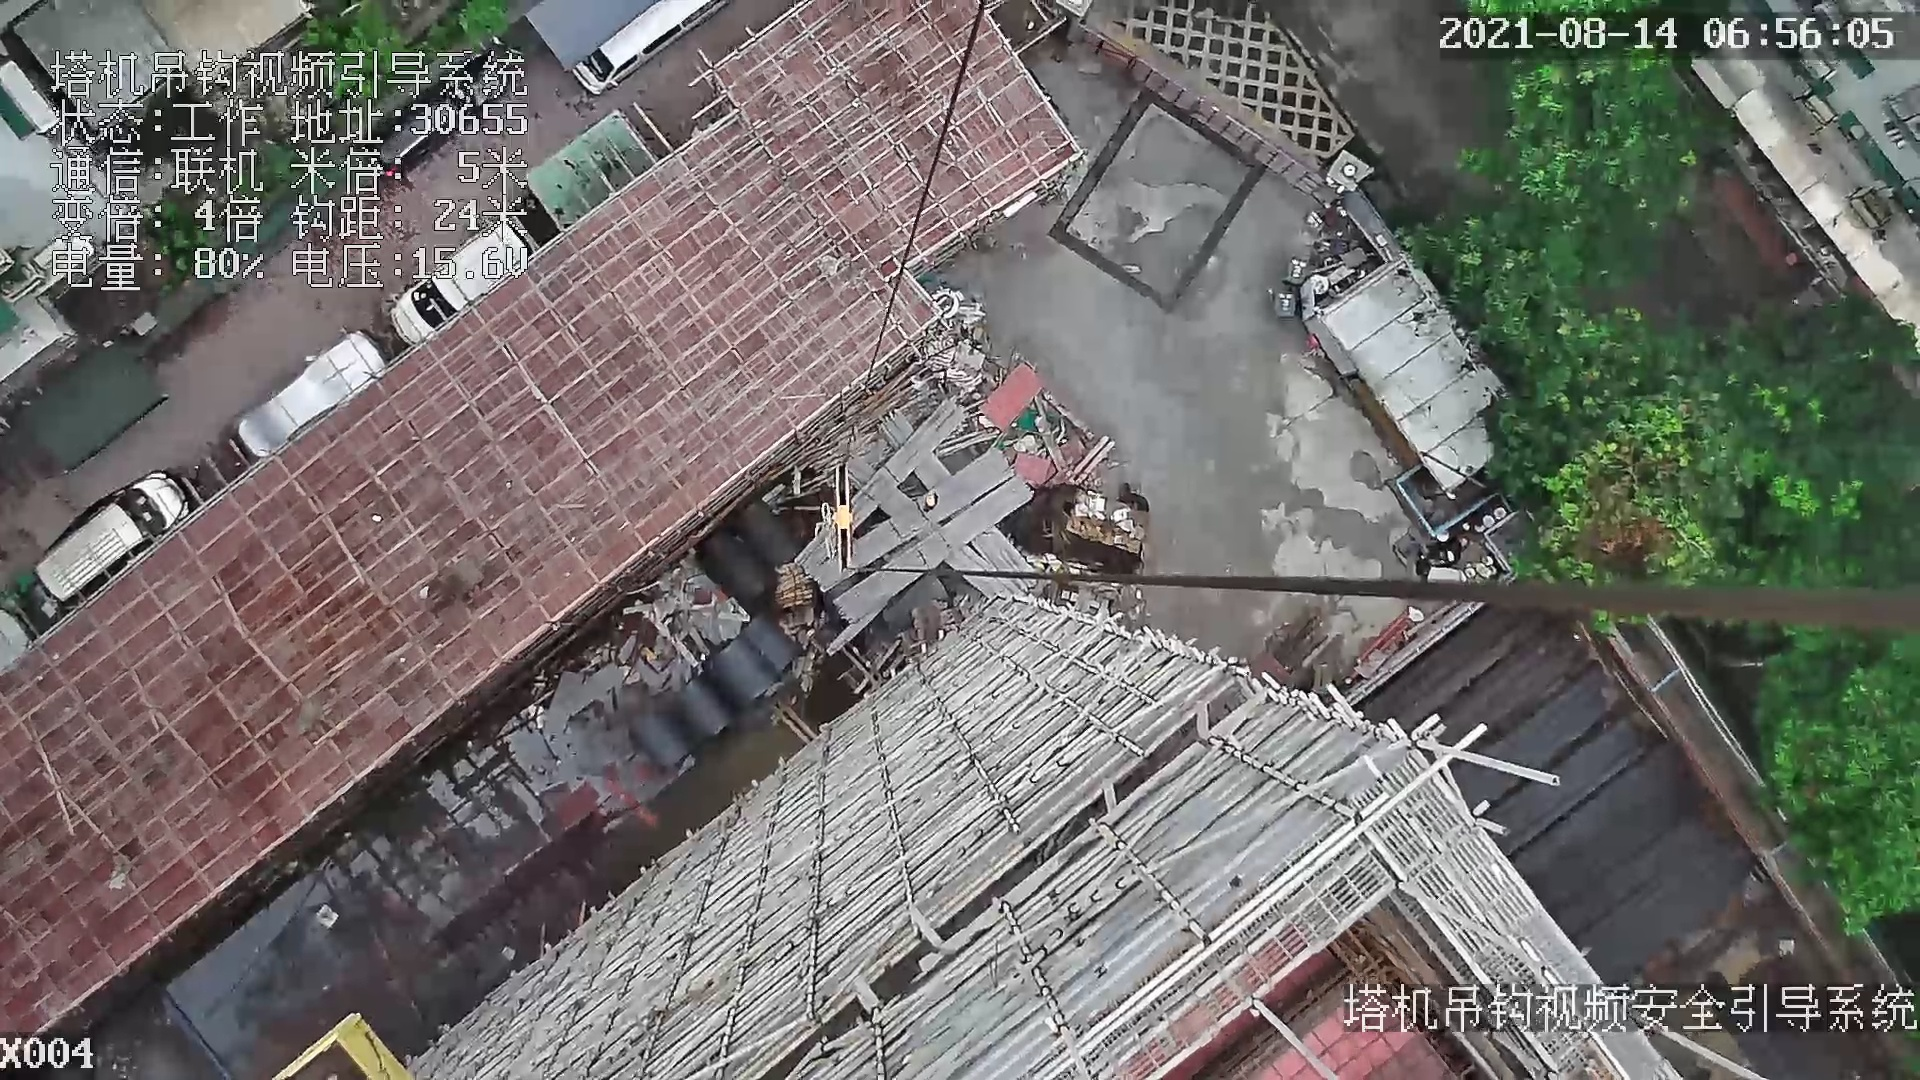helmet: (925, 495, 935, 507)
hook: (824, 464, 863, 578)
person: (922, 490, 940, 512)
rebar: (796, 400, 966, 574), (833, 477, 1034, 625), (812, 450, 1013, 592), (971, 527, 1038, 591), (945, 547, 1012, 597)
wood: (774, 575, 814, 608)
